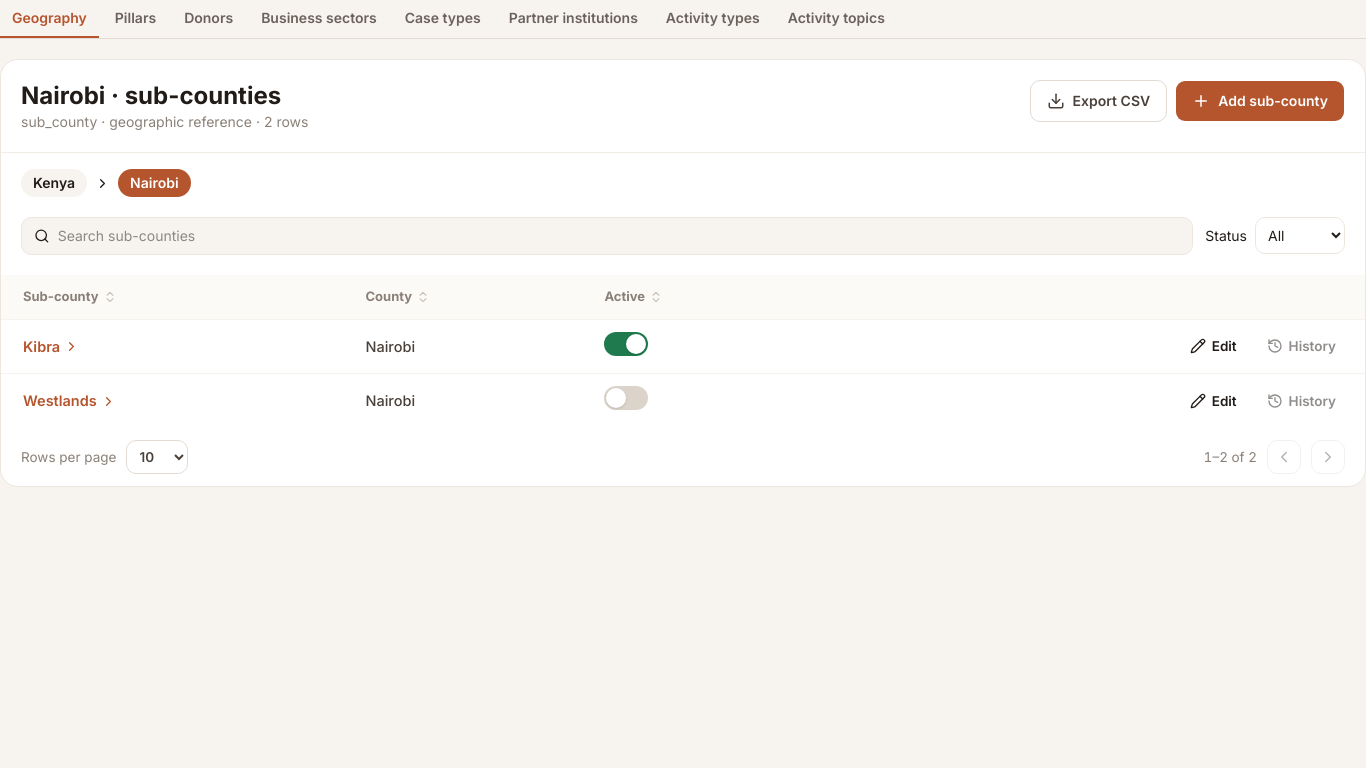
Scenario: configuration controls › offers CSV only with export permission and submits exactly the visible filtered level
Type "Kibra" into the search field at (619, 236), box [58,226,1180,246]
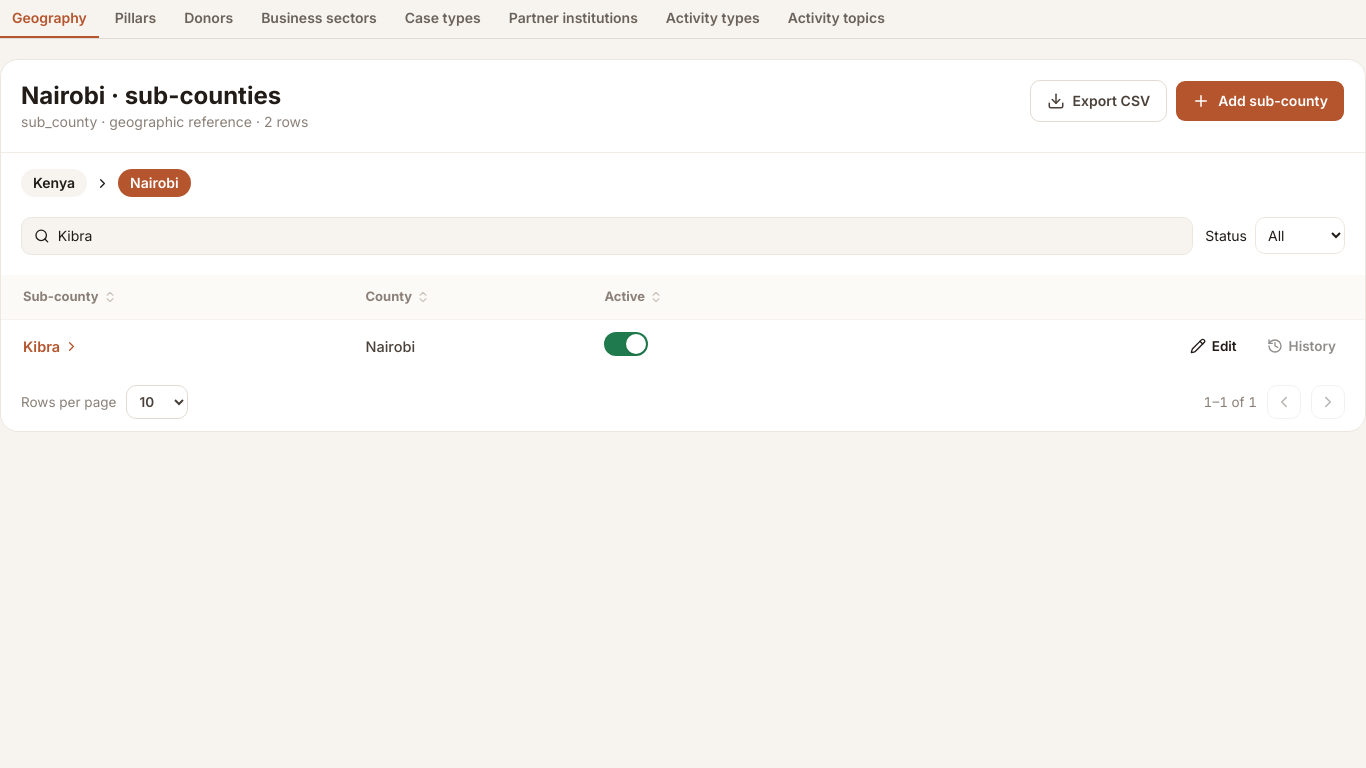
Click the button "Export CSV" at (1098, 101), box [1030,80,1167,122]
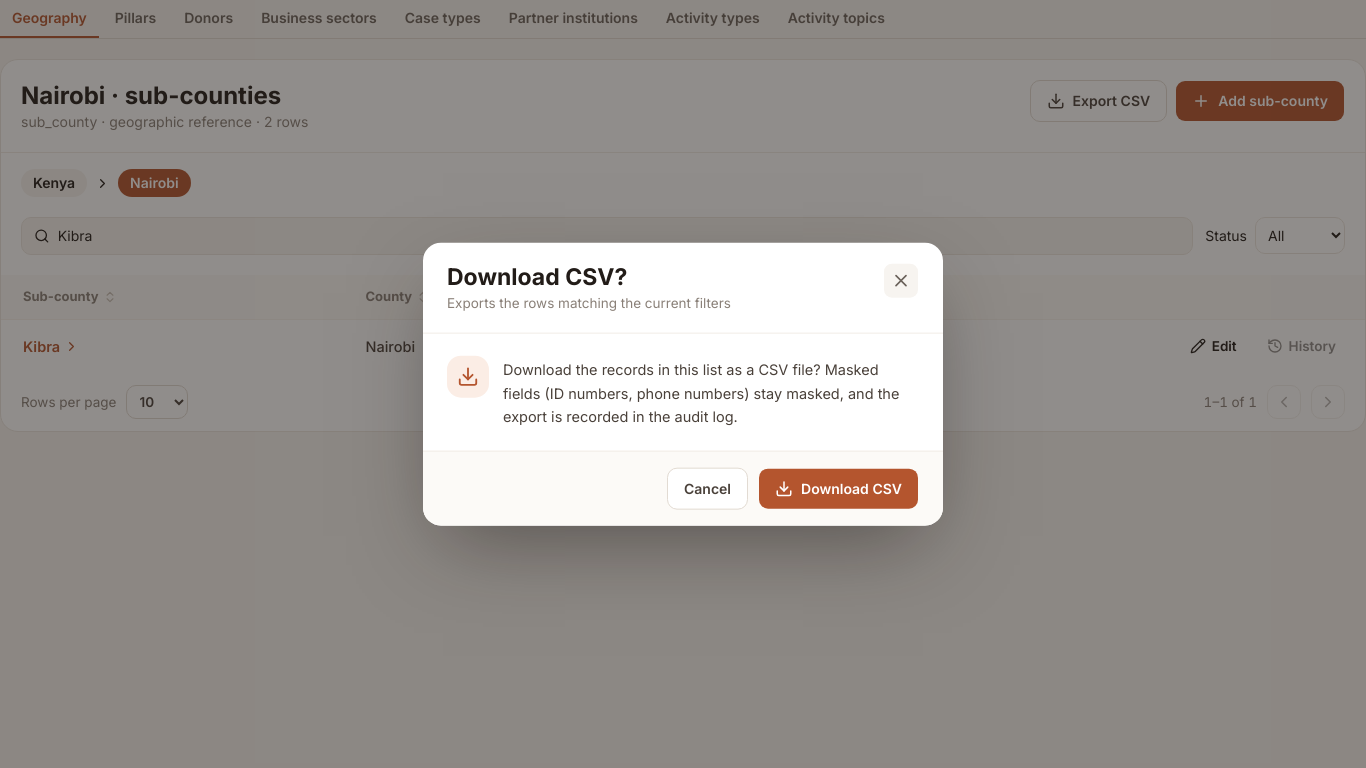
Click the button "Download CSV" at (838, 488), box [758,467,919,509]
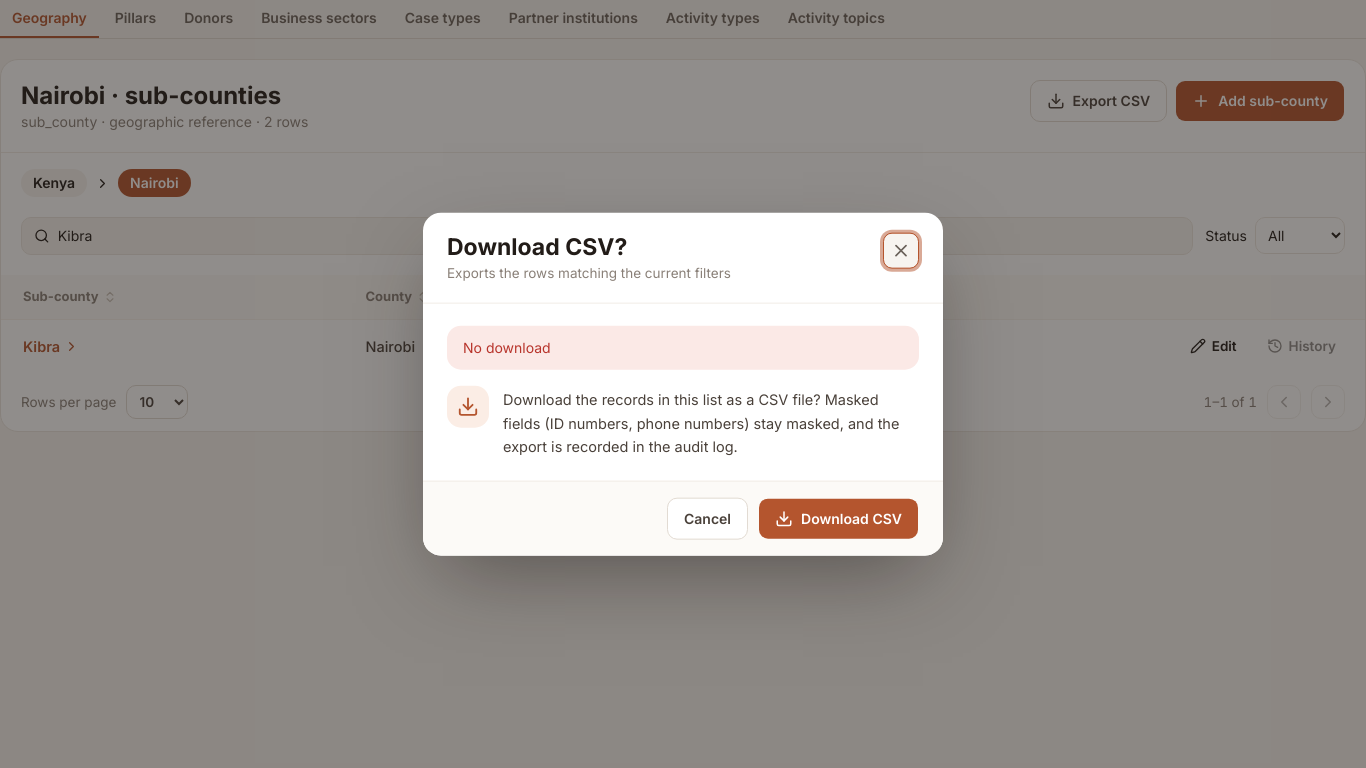
Check: the text "No download" is shown, box [447,326,919,370]
